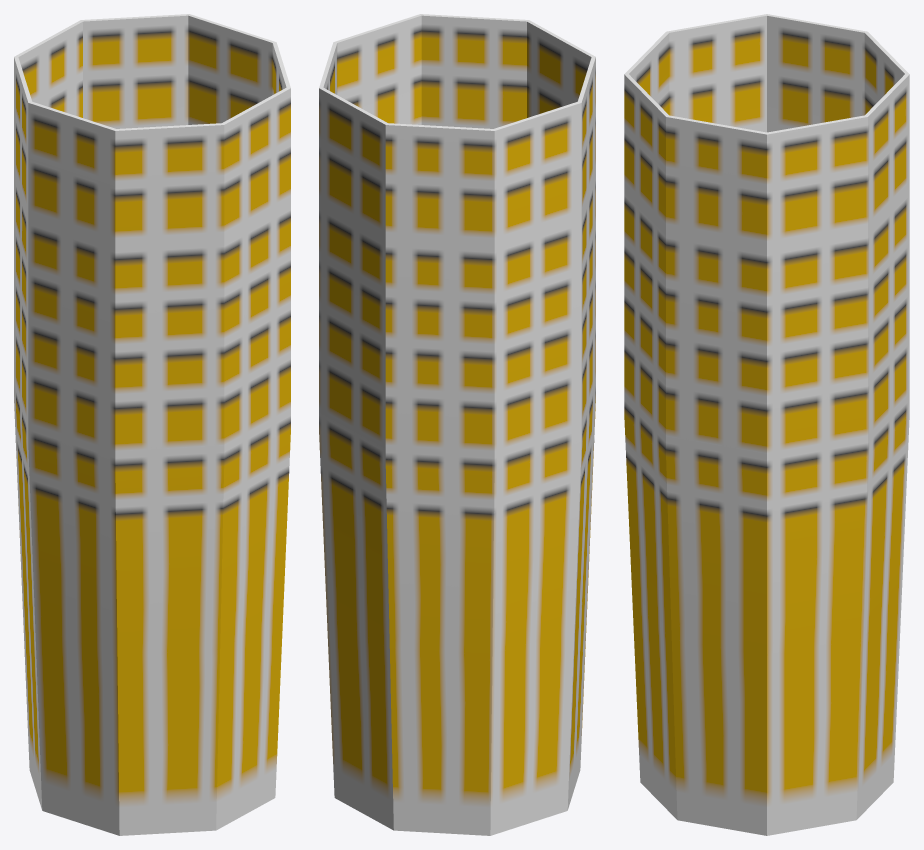
The model's file is JuiceCupDA.fbx.
3 views of the same model, side by side, from view 1: azimuth 30°, elevation 25°; view 2: azimuth 150°, elevation 25°; view 3: azimuth 270°, elevation 25° (orthographic).
Visible parts, largest first — view 1: JuiceCupDA; view 2: JuiceCupDA; view 3: JuiceCupDA.
Boxes of the visible parts, x1,y1,x2,y2 form: JuiceCupDA: (14,14,290,835); JuiceCupDA: (319,14,595,835); JuiceCupDA: (624,14,909,835).
Size of the model in its own units: 102 by 280 by 102.
